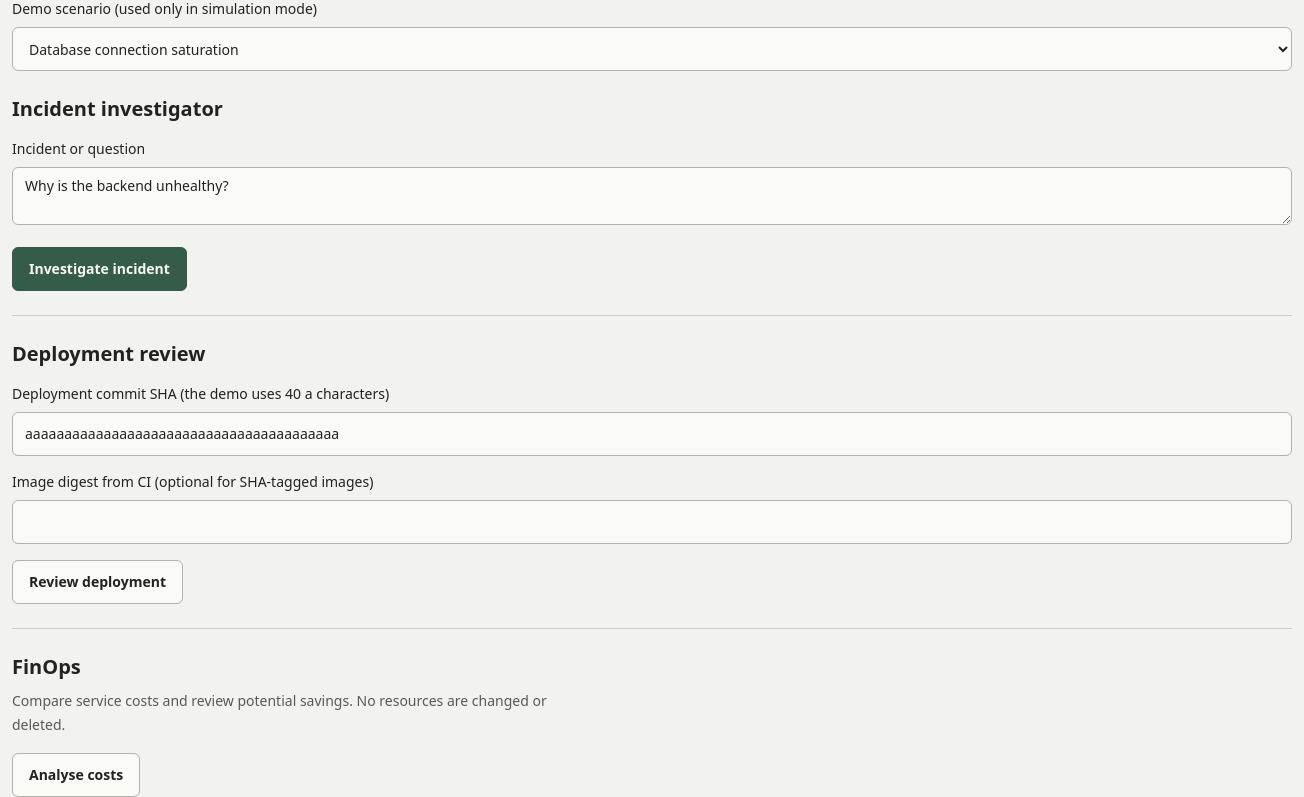
Test case: Cloud Ops › shows service errors with a retryable form
(page scrolled)
Step 1. Click the button "Analyse costs" → (76, 775), box [12,753,140,796]
(page scrolled)
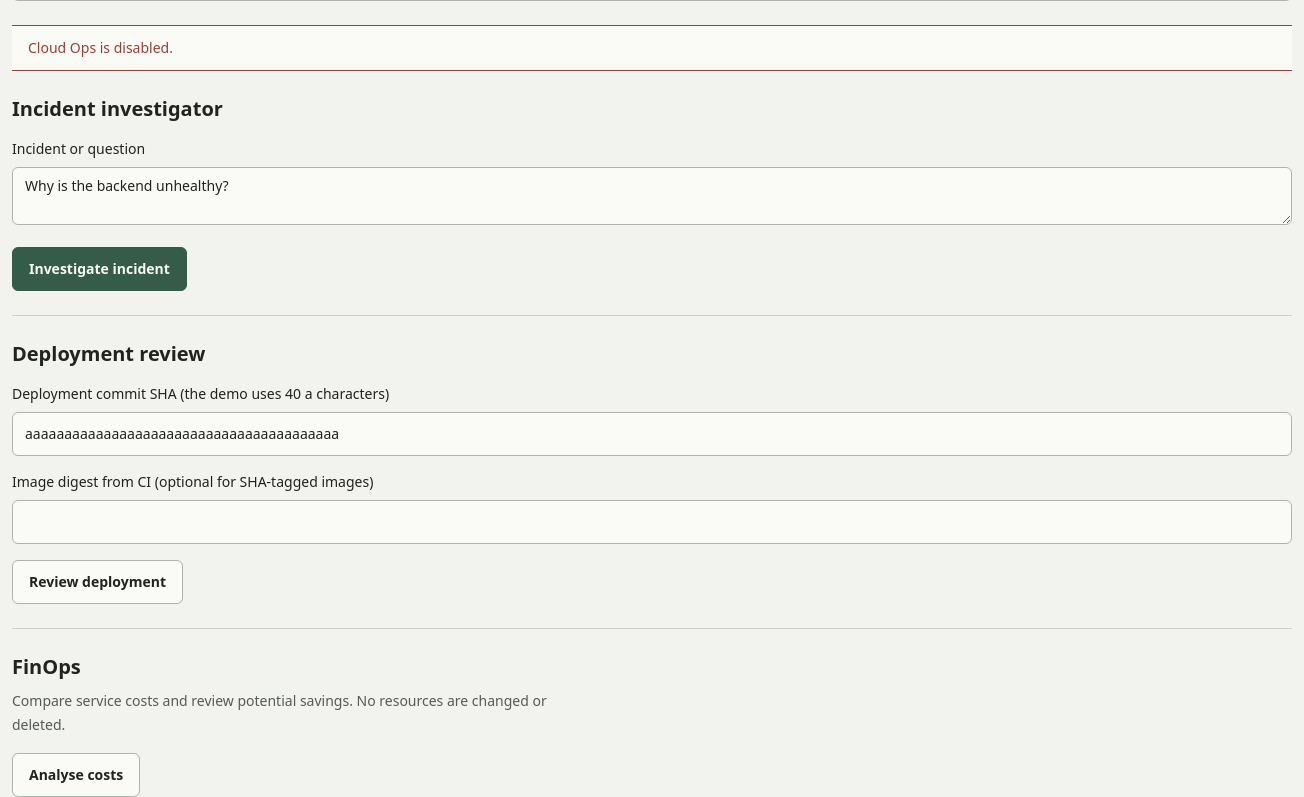
Now the message reads "Cloud Ops is disabled.", box [28,38,173,57]
